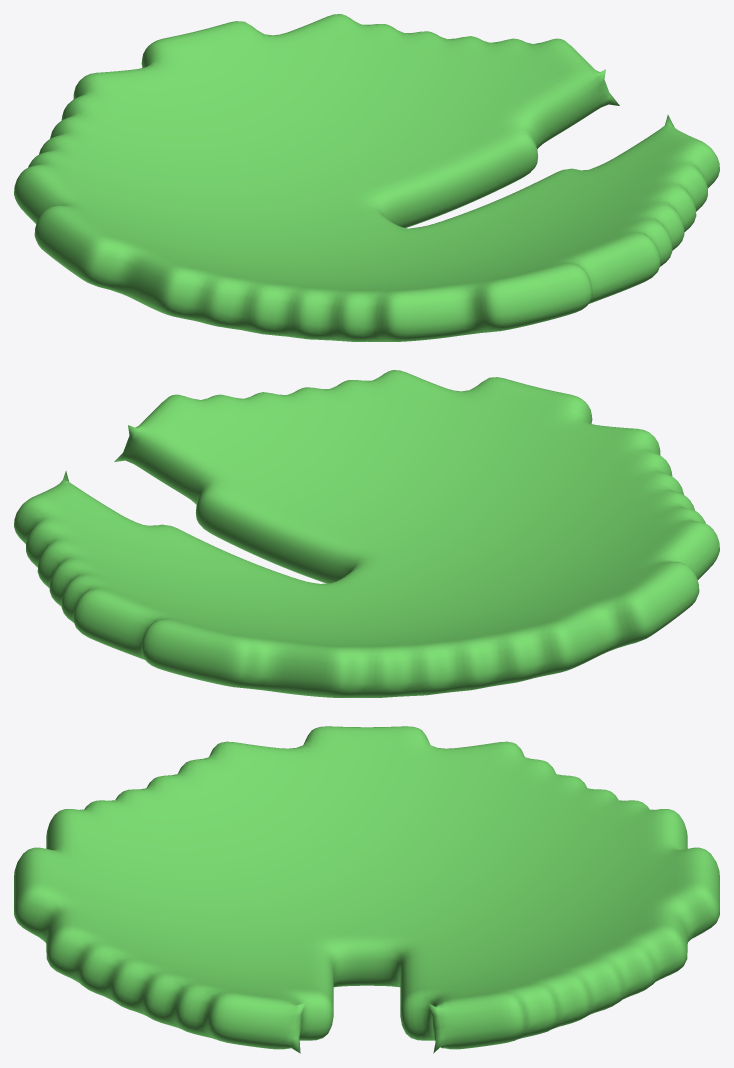
File: LotusLeaf.fbx
The picture shows the model from 3 angles, top to bottom: view 1: azimuth 30°, elevation 25°; view 2: azimuth 150°, elevation 25°; view 3: azimuth 270°, elevation 25°; orthographic projection.
Visible parts, largest first — view 1: LotusLeaf; view 2: LotusLeaf; view 3: LotusLeaf.
Part boxes in pixels (x1=…): LotusLeaf: x1=14, y1=14, x2=719, y2=341; LotusLeaf: x1=14, y1=370, x2=719, y2=697; LotusLeaf: x1=14, y1=726, x2=719, y2=1053.
Size of the model in its own units: 0.7483 by 0.136 by 0.7746.
